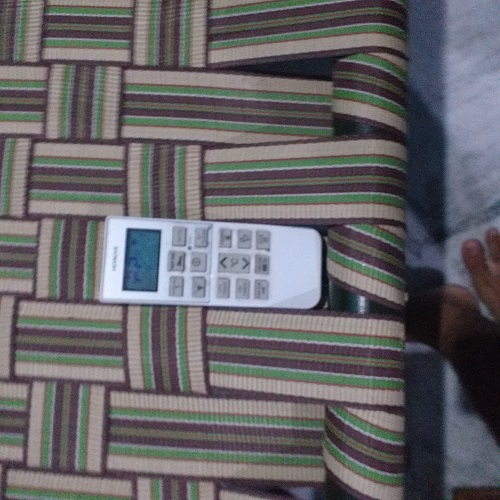remote: (82, 203, 335, 318)
